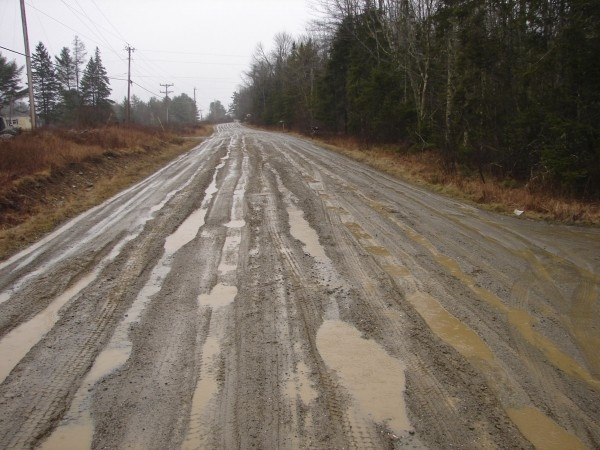pothole: (275, 264, 462, 438), (79, 187, 283, 261)
